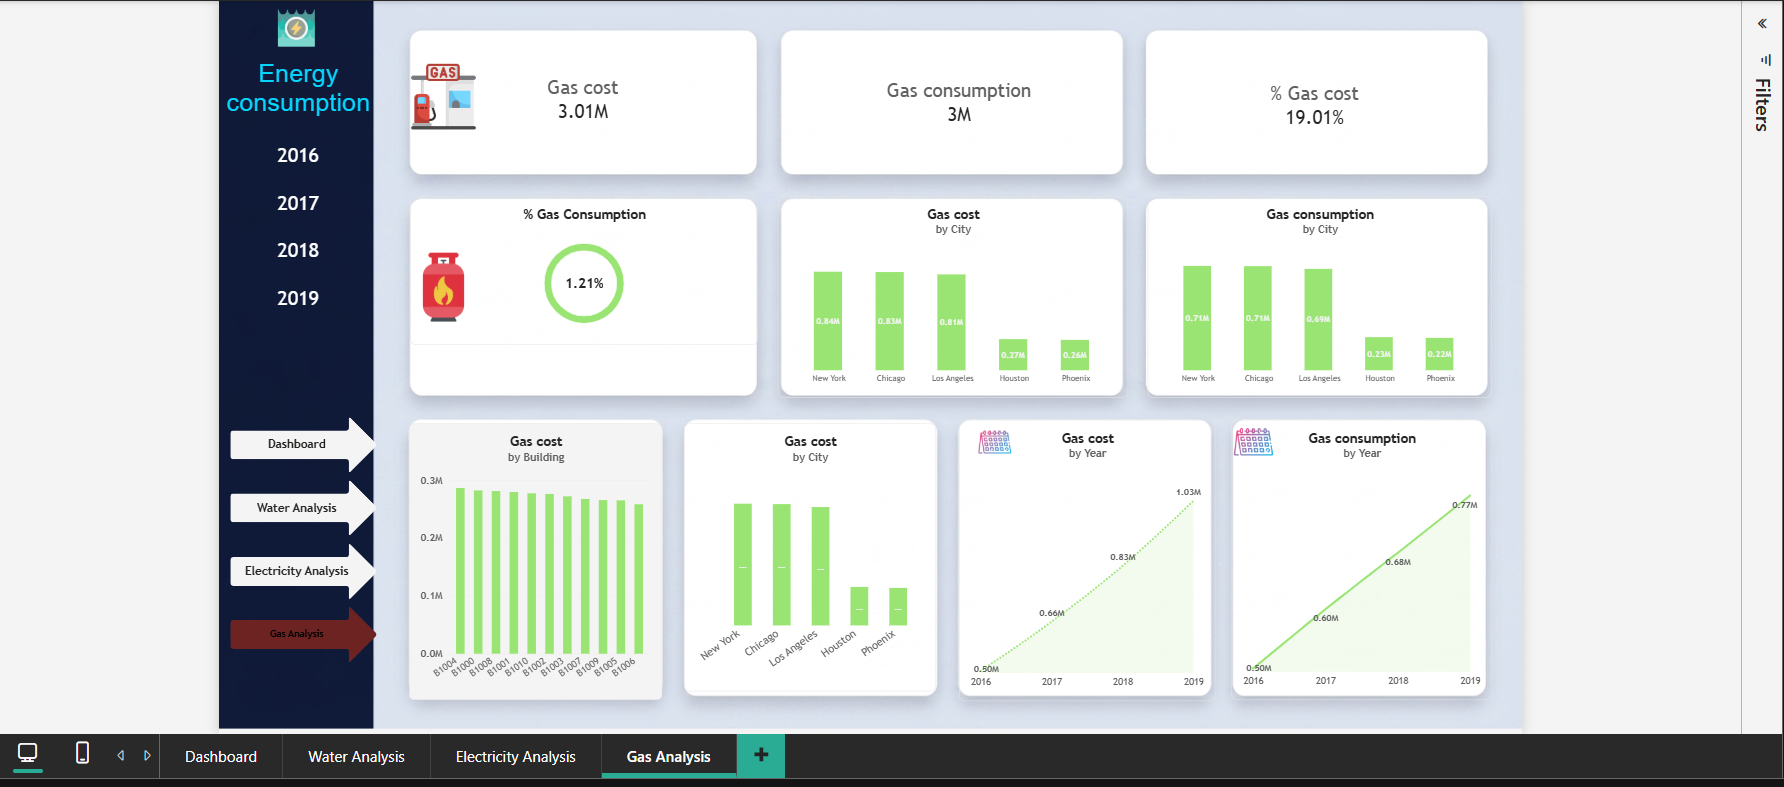

This screenshot's page, from the dashboard's own definition file:
{"tool":"powerbi","page":{"name":"Gas Analysis","canvas":[1920,1080],"ordinal":3},"visuals":[{"type":"cardVisual","fields":{"Data":["KPIS.Gas cost"]},"box":[280.5,39.8,512.1,209.9],"z":0},{"type":"donutChart","fields":{"Y":["KPIS.% Gas Consumption"]},"box":[281.2,287,512.4,219.6],"z":1000},{"type":"cardVisual","fields":{"Data":["KPIS.% Gas cost"]},"box":[1369.9,59.7,488.6,190],"z":2000},{"type":"advancedSlicerVisual","fields":{"Values":["Rates.Year"]},"box":[16.3,195.4,200.3,279.3],"z":3000},{"type":"clusteredColumnChart","fields":{"Category":["Building Master.City"],"Y":["KPIS.Gas cost"]},"box":[823.4,287.7,515.8,296.8],"z":4000},{"type":"clusteredColumnChart","fields":{"Category":["Building Master.City"],"Y":["KPIS.Gas consumption"]},"box":[1368.1,287.7,506.7,296.8],"z":5000},{"type":"clusteredColumnChart","fields":{"Category":["Building Master.City"],"Y":["KPIS.Gas cost"]},"box":[684.1,622.5,371,394.5],"z":6000},{"type":"lineChart","fields":{"Category":["Rates.Year"],"Y":["KPIS.Gas consumption"]},"box":[1491.2,617.1,383.6,412.6],"z":7000},{"type":"clusteredColumnChart","fields":{"Category":["Building Master.Building"],"Y":["KPIS.Gas cost"]},"box":[280.5,622.5,372.8,407.2],"z":8000},{"type":"lineChart","fields":{"Category":["Rates.Year"],"Y":["KPIS.Gas cost"]},"box":[1090.2,616.4,377.5,414.1],"z":9000},{"type":"textbox","box":[9,85.1,215.3,128.5],"z":10000},{"type":"image","box":[50.7,12.7,124.9,54.3],"z":11000},{"type":"image","box":[1100.3,622.5,83.2,54.3],"z":14000},{"type":"image","box":[1491.2,617.1,65.1,65.1],"z":15000},{"type":"pageNavigator","box":[16.3,611.7,217.2,367.4],"z":16000},{"type":"cardVisual","fields":{"Data":["KPIS.Gas consumption"]},"box":[841.5,45.2,497.7,209.9],"z":17000},{"type":"image","box":[280.5,88.7,101.3,106.8],"z":17001},{"type":"image","box":[280.5,367.4,101.3,106.8],"z":17002}]}

Visuals, with their boxes on the page's 1920x1080 design canvas (x1, y1, x2, y2). These are canvas units, not pixel positions in the 1784x787 screenshot, which may show the page scaled, cropped or inside an application window:
cardVisual - KPIS.Gas cost: region(280, 40, 793, 250)
donutChart - KPIS.% Gas Consumption: region(281, 287, 794, 507)
cardVisual - KPIS.% Gas cost: region(1370, 60, 1858, 250)
advancedSlicerVisual - Rates.Year: region(16, 195, 217, 475)
clusteredColumnChart - Building Master.City x KPIS.Gas cost: region(823, 288, 1339, 584)
clusteredColumnChart - Building Master.City x KPIS.Gas consumption: region(1368, 288, 1875, 584)
clusteredColumnChart - Building Master.City x KPIS.Gas cost: region(684, 622, 1055, 1017)
lineChart - Rates.Year x KPIS.Gas consumption: region(1491, 617, 1875, 1030)
clusteredColumnChart - Building Master.Building x KPIS.Gas cost: region(280, 622, 653, 1030)
lineChart - Rates.Year x KPIS.Gas cost: region(1090, 616, 1468, 1030)
textbox: region(9, 85, 224, 214)
image: region(51, 13, 176, 67)
image: region(1100, 622, 1184, 677)
image: region(1491, 617, 1556, 682)
pageNavigator: region(16, 612, 234, 979)
cardVisual - KPIS.Gas consumption: region(842, 45, 1339, 255)
image: region(280, 89, 382, 196)
image: region(280, 367, 382, 474)
